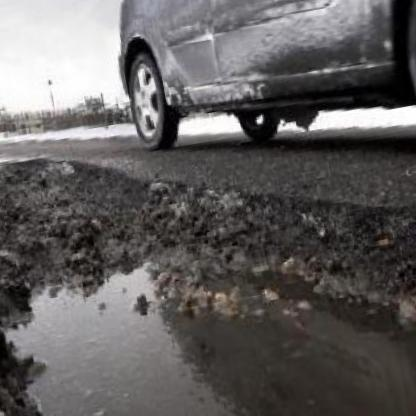pothole: (0, 58, 416, 416)
